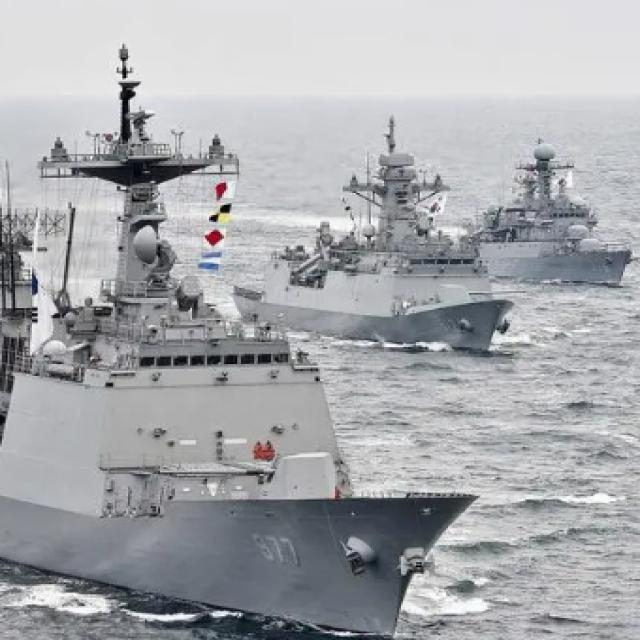navalvessels: (0, 76, 471, 635), (244, 123, 519, 347), (472, 135, 633, 303)
